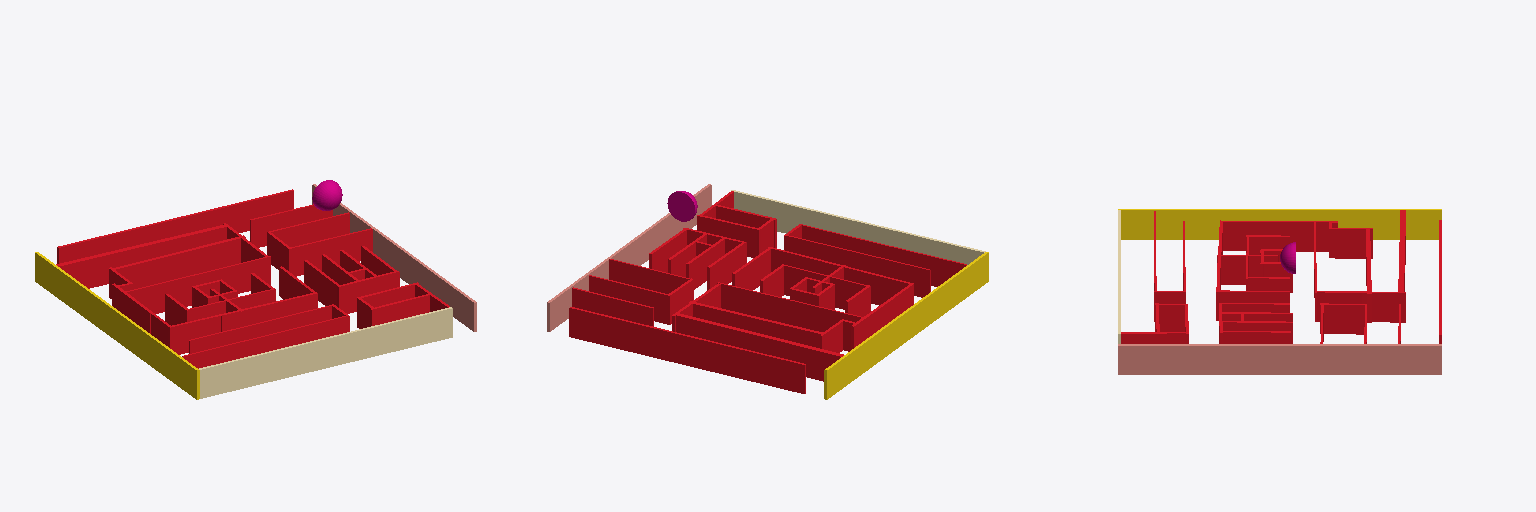
The model's file is tinker.obj.
The picture shows the model from 3 angles: view 1: azimuth 30°, elevation 25°; view 2: azimuth 150°, elevation 25°; view 3: azimuth 270°, elevation 25°; orthographic projection.
Visible parts, largest first — view 1: obj_0; view 2: obj_0; view 3: obj_0.
Part boxes in pixels (bbox=[...]): obj_0: bbox=[35, 180, 476, 399]; obj_0: bbox=[547, 184, 988, 399]; obj_0: bbox=[1118, 209, 1441, 374].
Bounding box in the file's own units: 200 × 69 × 200.